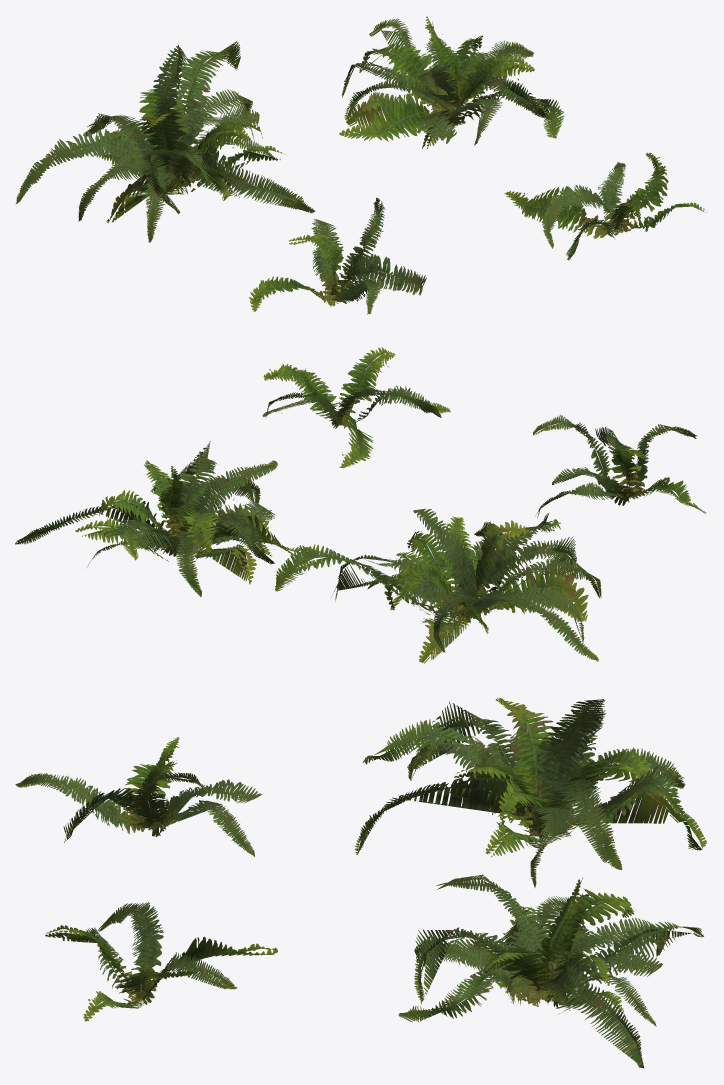
Rendered from fern.glb.
3 renders of one model, top to bottom at view 1: azimuth 30°, elevation 25°; view 2: azimuth 150°, elevation 25°; view 3: azimuth 270°, elevation 25°, orthographic. The views are drawn at different scales.
Visible parts, largest first — view 1: LOD0_0, LOD1_0, LOD0_1, LOD1_1, LOD0_2, LOD1_3, LOD0_3, LOD1_2; view 2: LOD0_0, LOD1_0, LOD0_1, LOD1_1, LOD0_3, LOD0_2, LOD1_2, LOD1_3; view 3: LOD1_0, LOD0_0, LOD0_1, LOD1_1, LOD1_2, LOD0_2, LOD1_3, LOD0_3.
Part boxes in pixels (x1,y1,x2,y2): LOD0_0: [16, 45, 315, 242]; LOD1_0: [16, 41, 314, 242]; LOD0_1: [339, 18, 561, 148]; LOD1_1: [341, 16, 564, 148]; LOD0_2: [249, 197, 425, 314]; LOD1_3: [504, 152, 704, 260]; LOD0_3: [506, 155, 704, 259]; LOD1_2: [250, 200, 426, 314]; LOD0_0: [275, 510, 601, 661]; LOD1_0: [275, 508, 599, 663]; LOD0_1: [15, 451, 301, 596]; LOD1_1: [17, 441, 294, 596]; LOD0_3: [264, 347, 450, 467]; LOD0_2: [533, 414, 705, 515]; LOD1_2: [533, 416, 706, 518]; LOD1_3: [262, 353, 447, 467]; LOD1_0: [357, 699, 702, 869]; LOD0_0: [355, 697, 707, 887]; LOD0_1: [407, 874, 703, 1068]; LOD1_1: [398, 878, 702, 1066]; LOD1_2: [15, 740, 261, 855]; LOD0_2: [22, 737, 260, 856]; LOD1_3: [45, 902, 277, 1021]; LOD0_3: [46, 903, 277, 1018].
Bounding box in the file's own units: 4.62 × 1.05 × 4.05.
1 material, 1 textured.
